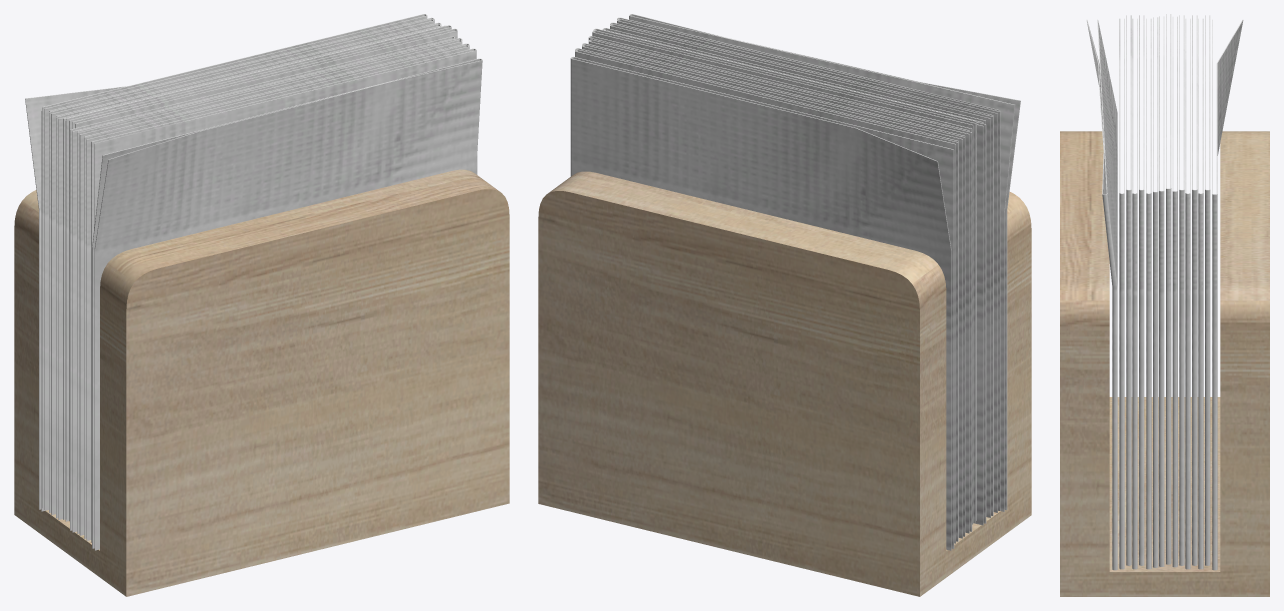
Rendered from SM_Napkins.glb.
3 views of the same model, side by side, from view 1: azimuth 30°, elevation 25°; view 2: azimuth 150°, elevation 25°; view 3: azimuth 270°, elevation 25° (orthographic). The views are drawn at different scales.
Parts seen in each view (by area): view 1: SM_Napkins; view 2: SM_Napkins; view 3: SM_Napkins.
Boxes of the visible parts, x1,y1,x2,y2 form: SM_Napkins: (14, 14, 509, 596); SM_Napkins: (538, 14, 1031, 596); SM_Napkins: (1060, 14, 1269, 596).
Bounding box in the file's own units: 0.1524 × 0.1628 × 0.076.
Materials: 2 (2 with a texture image).
